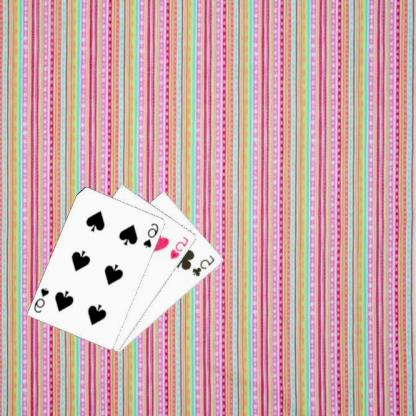5C: (191, 252, 219, 278)
5H: (170, 233, 192, 260)
6S: (142, 220, 162, 249), (33, 285, 53, 314)
